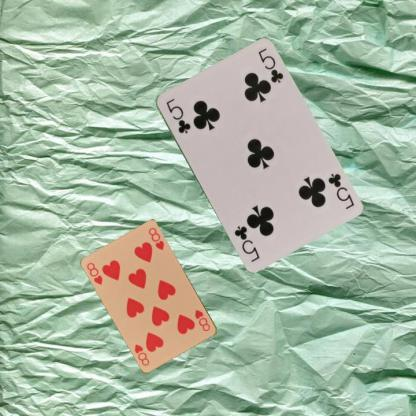5c: (325, 170, 355, 210), (163, 96, 192, 136)
8h: (84, 260, 104, 287), (192, 307, 212, 333)
